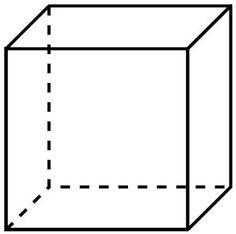cubos: (1, 1, 236, 234)
